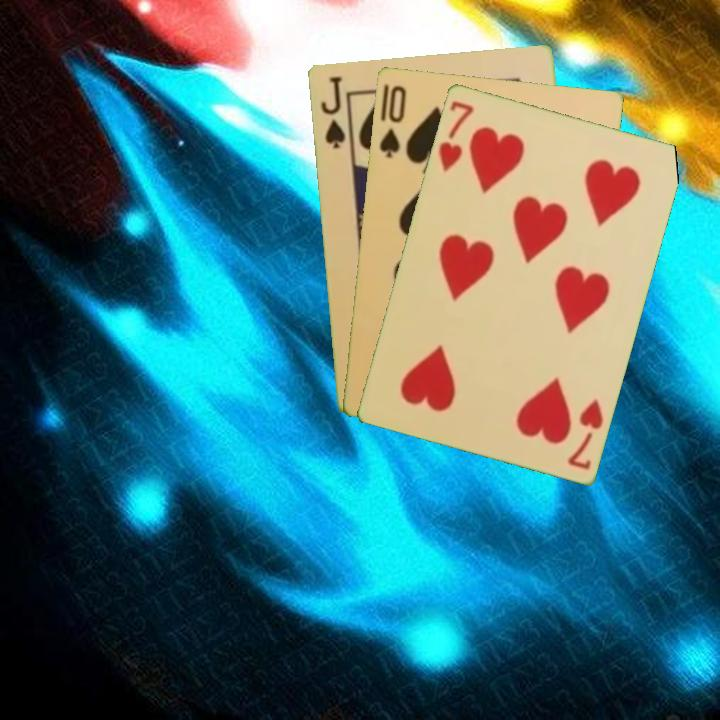10s: (375, 81, 409, 160)
7h: (434, 96, 477, 175), (564, 395, 606, 472)
Js: (317, 72, 348, 152)
